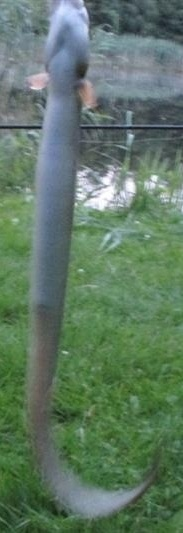Anguilla anguilla: (20, 1, 163, 522)
